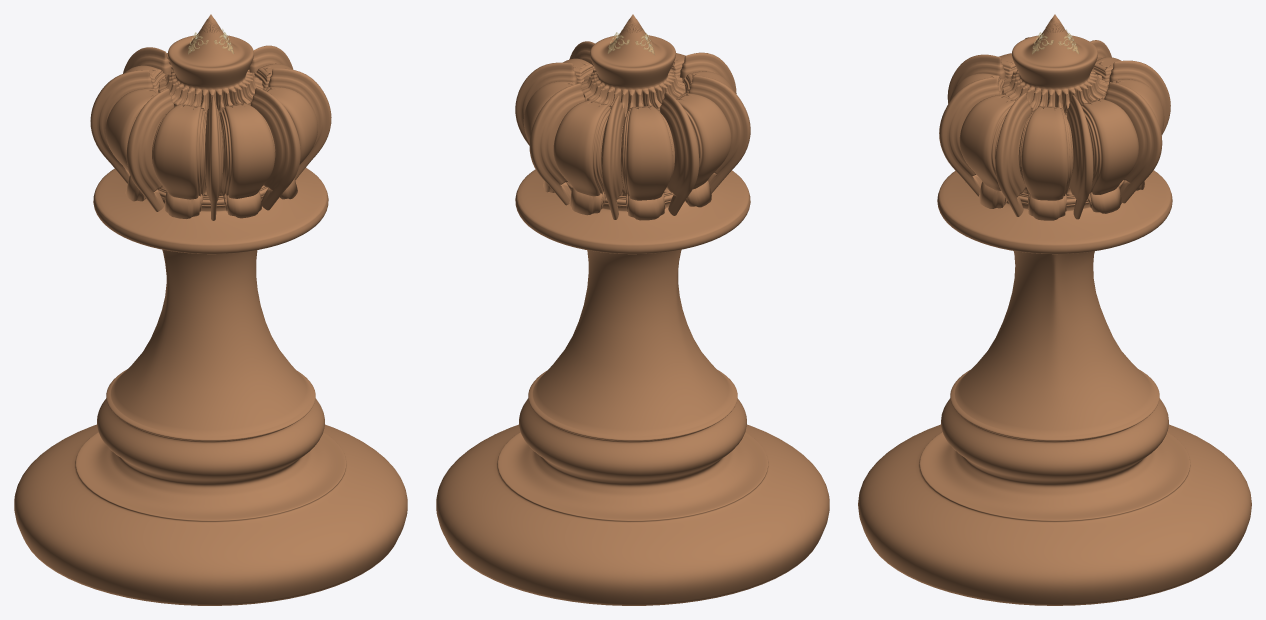
File: chess00.glb
The picture shows the model from 3 angles, left to right: view 1: azimuth 30°, elevation 25°; view 2: azimuth 150°, elevation 25°; view 3: azimuth 270°, elevation 25°; orthographic projection.
Visible parts, largest first — view 1: Line001; view 2: Line001; view 3: Line001.
Part boxes in pixels (x1,y1,x2,y2): Line001: (14, 14, 407, 605); Line001: (436, 14, 829, 605); Line001: (858, 14, 1251, 605).
Size of the model in its own units: 684 by 988 by 684.
